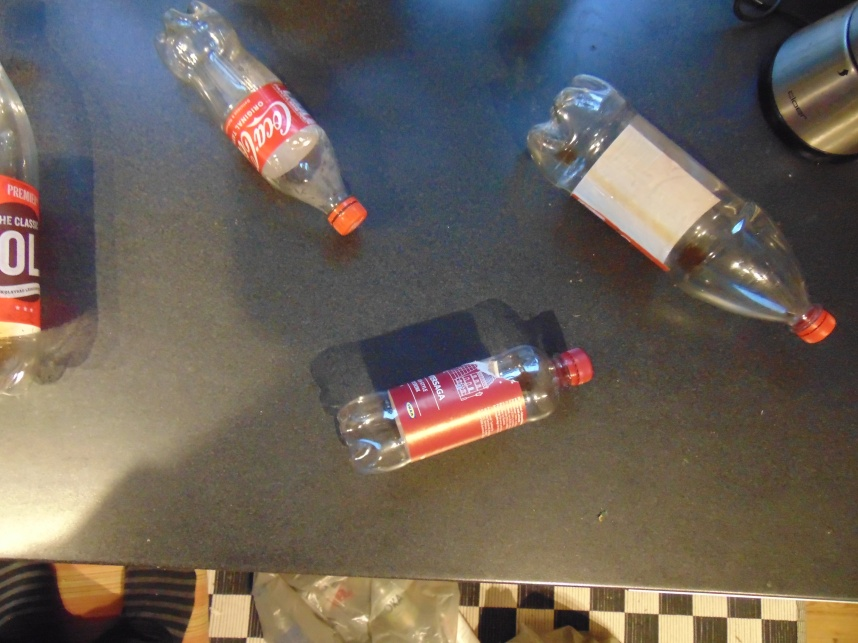metal_can: (771, 9, 858, 157)
plastic_bottle: (523, 70, 835, 348), (154, 3, 367, 237), (337, 344, 594, 471), (1, 55, 42, 398)
